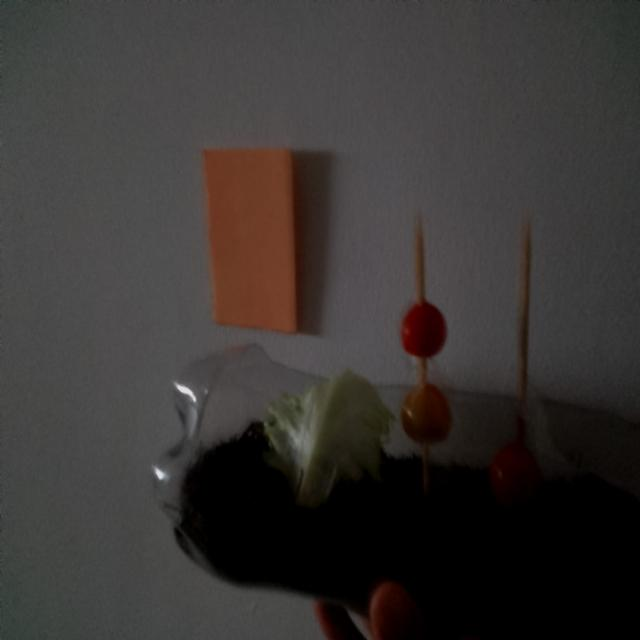card: (204, 148, 298, 333)
fruit_bud: (401, 383, 451, 443)
fully_grown: (489, 442, 541, 515), (401, 301, 447, 358)
